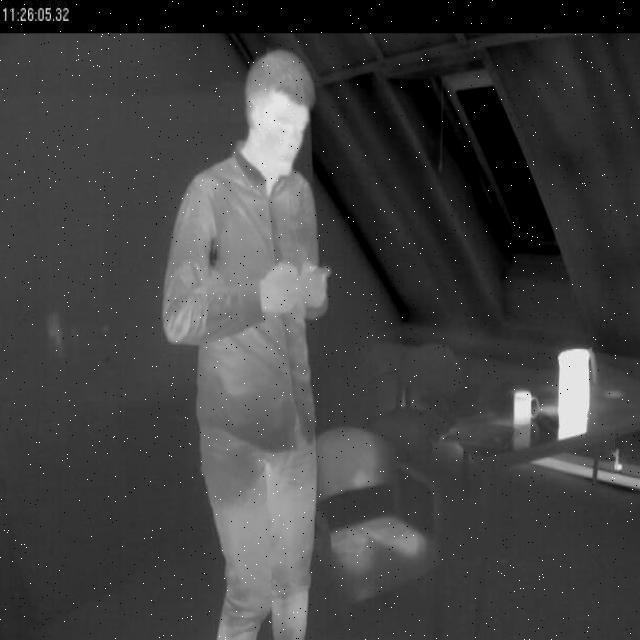person: (157, 55, 338, 640)
